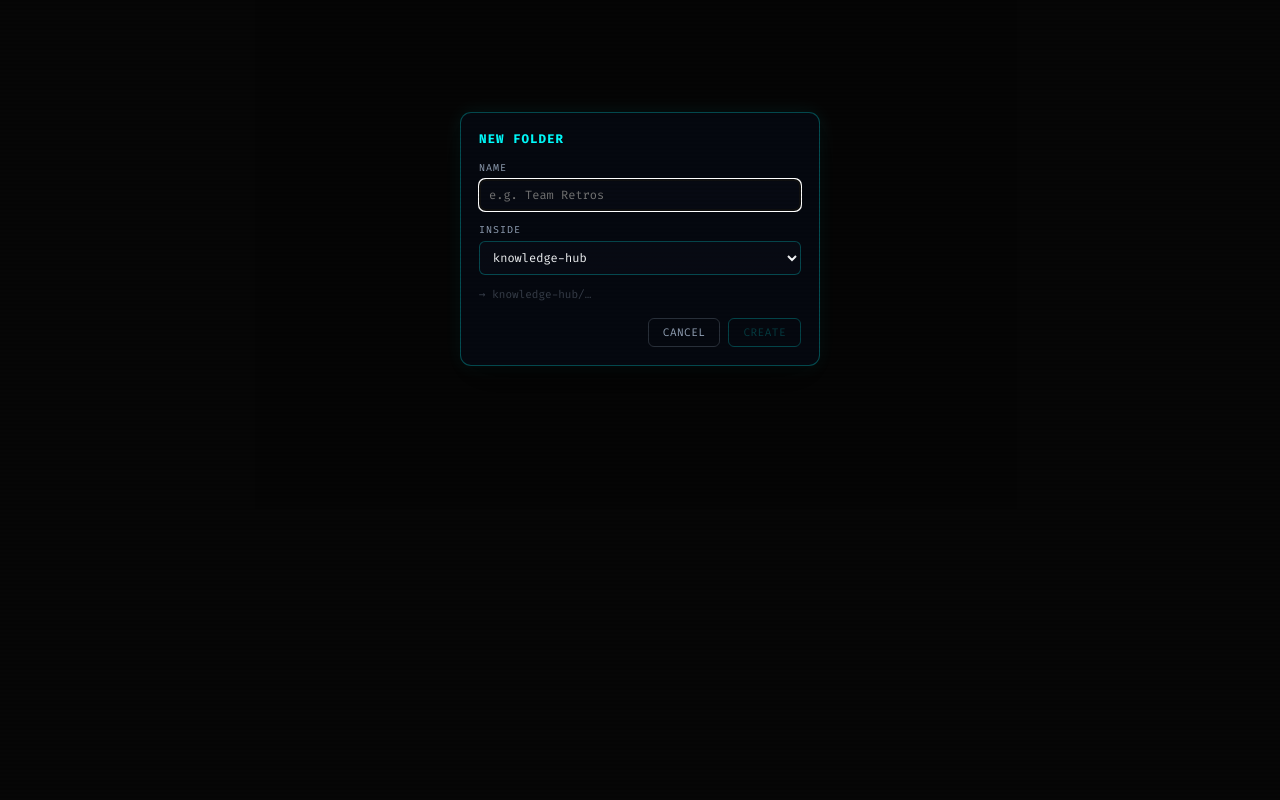
Test: NewFolderDialog › shows a live slug preview of the target path
Type "Team Retros" into the field labelled "Name" at (640, 195), box [479,179,801,211]
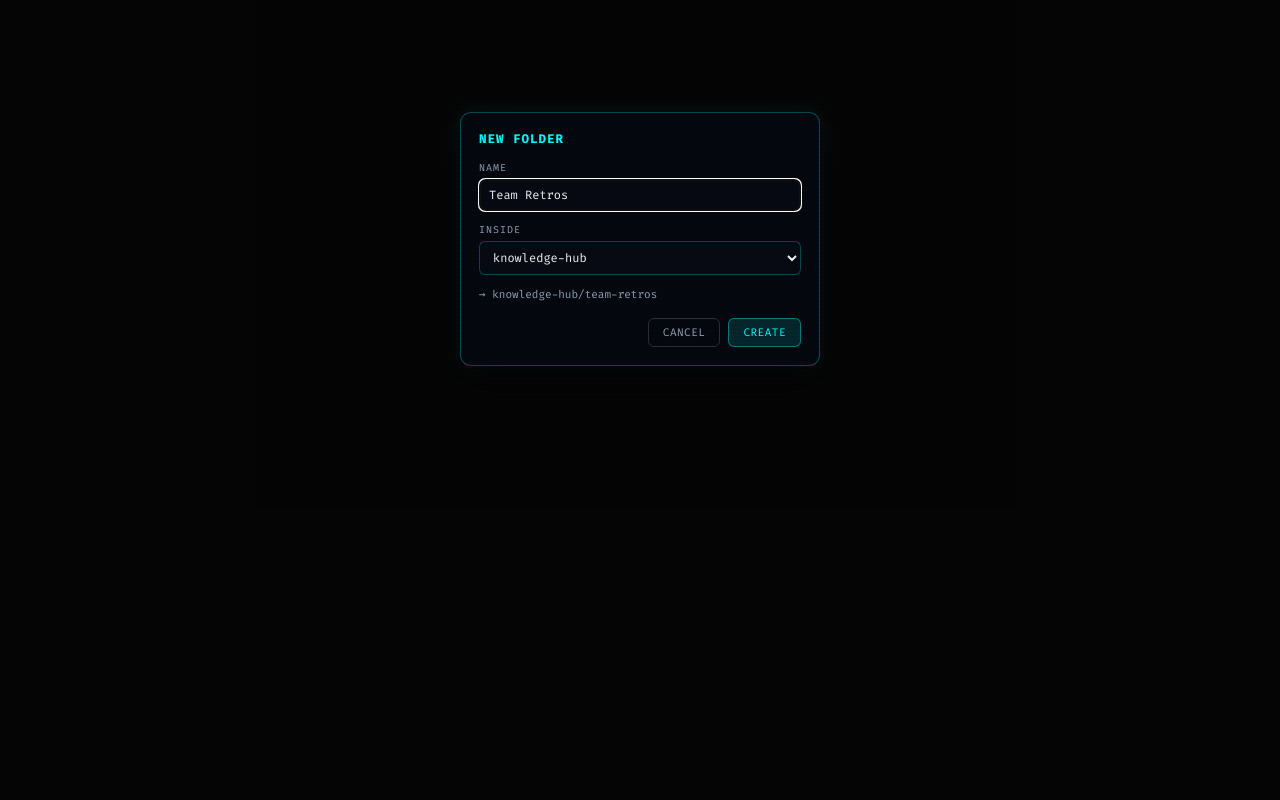
Expected: the text "→ knowledge-hub/team-retros" is shown, [479,287,657,302]
